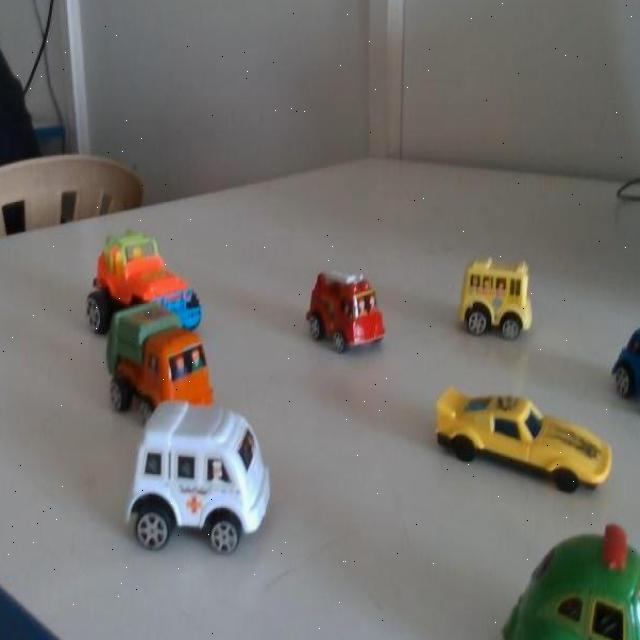car: (138, 379, 302, 582), (455, 374, 600, 506), (121, 222, 213, 340), (305, 255, 388, 374), (135, 294, 208, 424), (456, 253, 544, 355), (550, 544, 640, 639), (618, 322, 640, 421)
